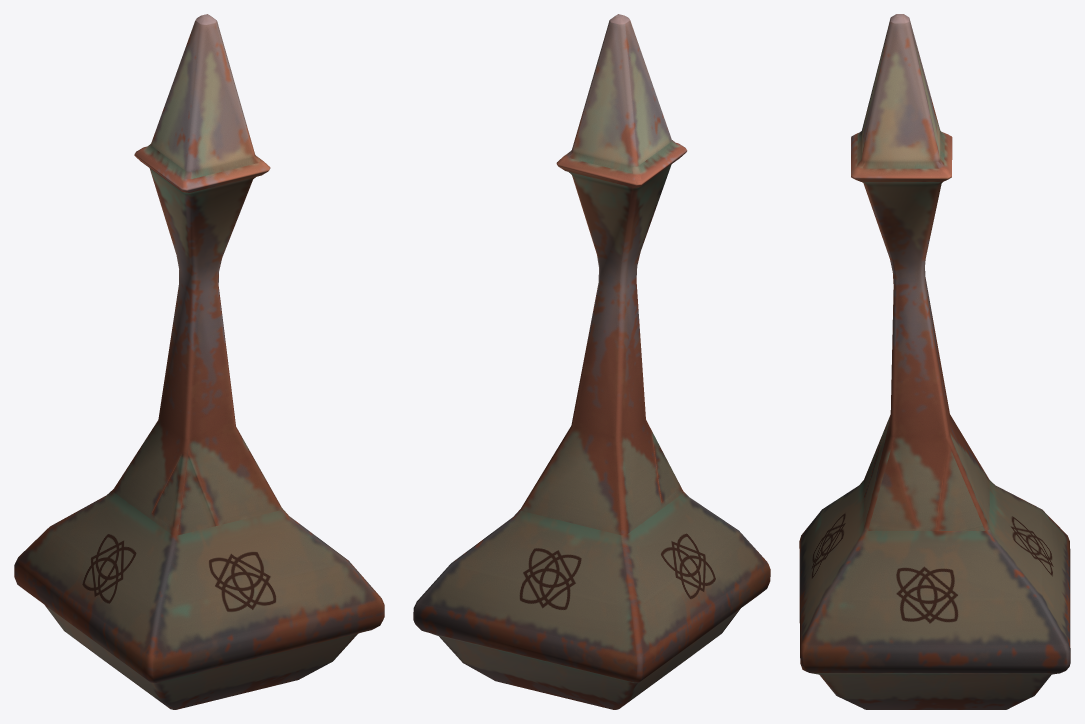
The model's file is SaraRoof.fbx.
3 renders of one model, left to right at view 1: azimuth 30°, elevation 25°; view 2: azimuth 150°, elevation 25°; view 3: azimuth 270°, elevation 25°, orthographic. The views are drawn at different scales.
Parts seen in each view (by area): view 1: SaraRoof; view 2: SaraRoof; view 3: SaraRoof.
Part boxes in pixels (x1,y1,x2,y2): SaraRoof: (14,14,384,709); SaraRoof: (413,14,770,709); SaraRoof: (799,14,1070,709).
Size of the model in its own units: 56.62 by 154 by 56.78.
